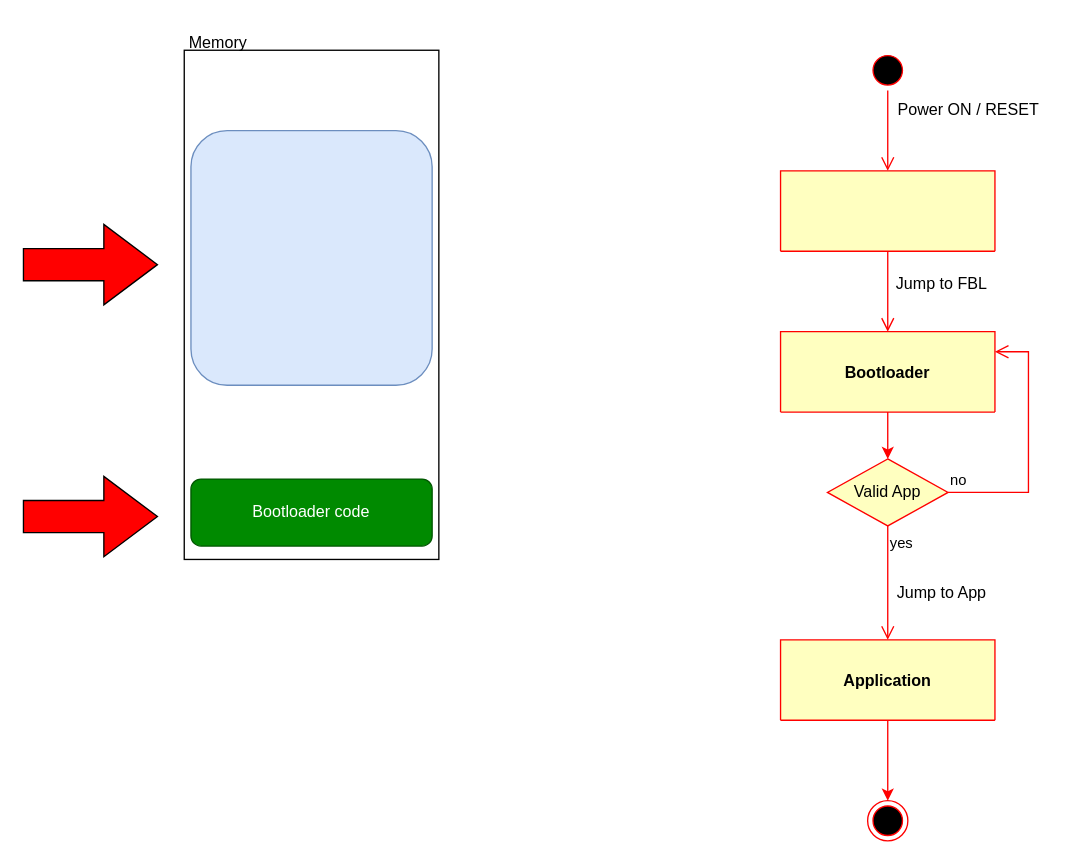
Image size: 1079x864. Some labels were removed from this diagram. Each missing label, with the centre of its shape:
"Application code" belongs at point (311, 257).
"Startup code" belongs at point (887, 210).
